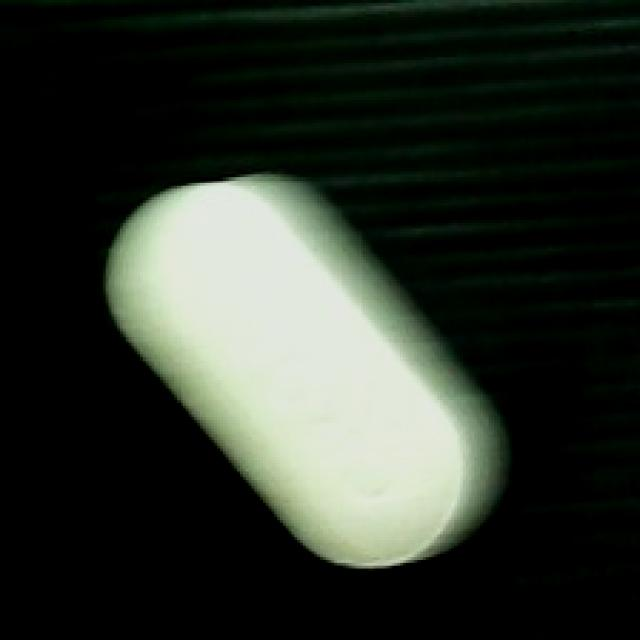no-defect: (99, 168, 509, 570)
